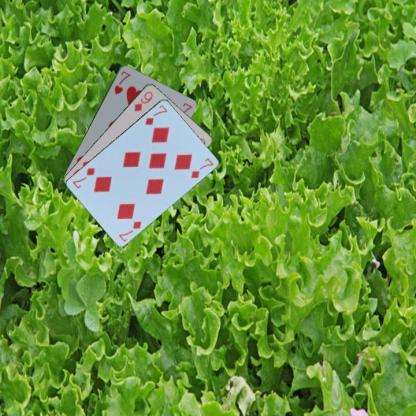7d: (116, 218, 143, 243), (142, 102, 168, 126)
7h: (112, 68, 132, 96)
9d: (132, 88, 154, 113)
